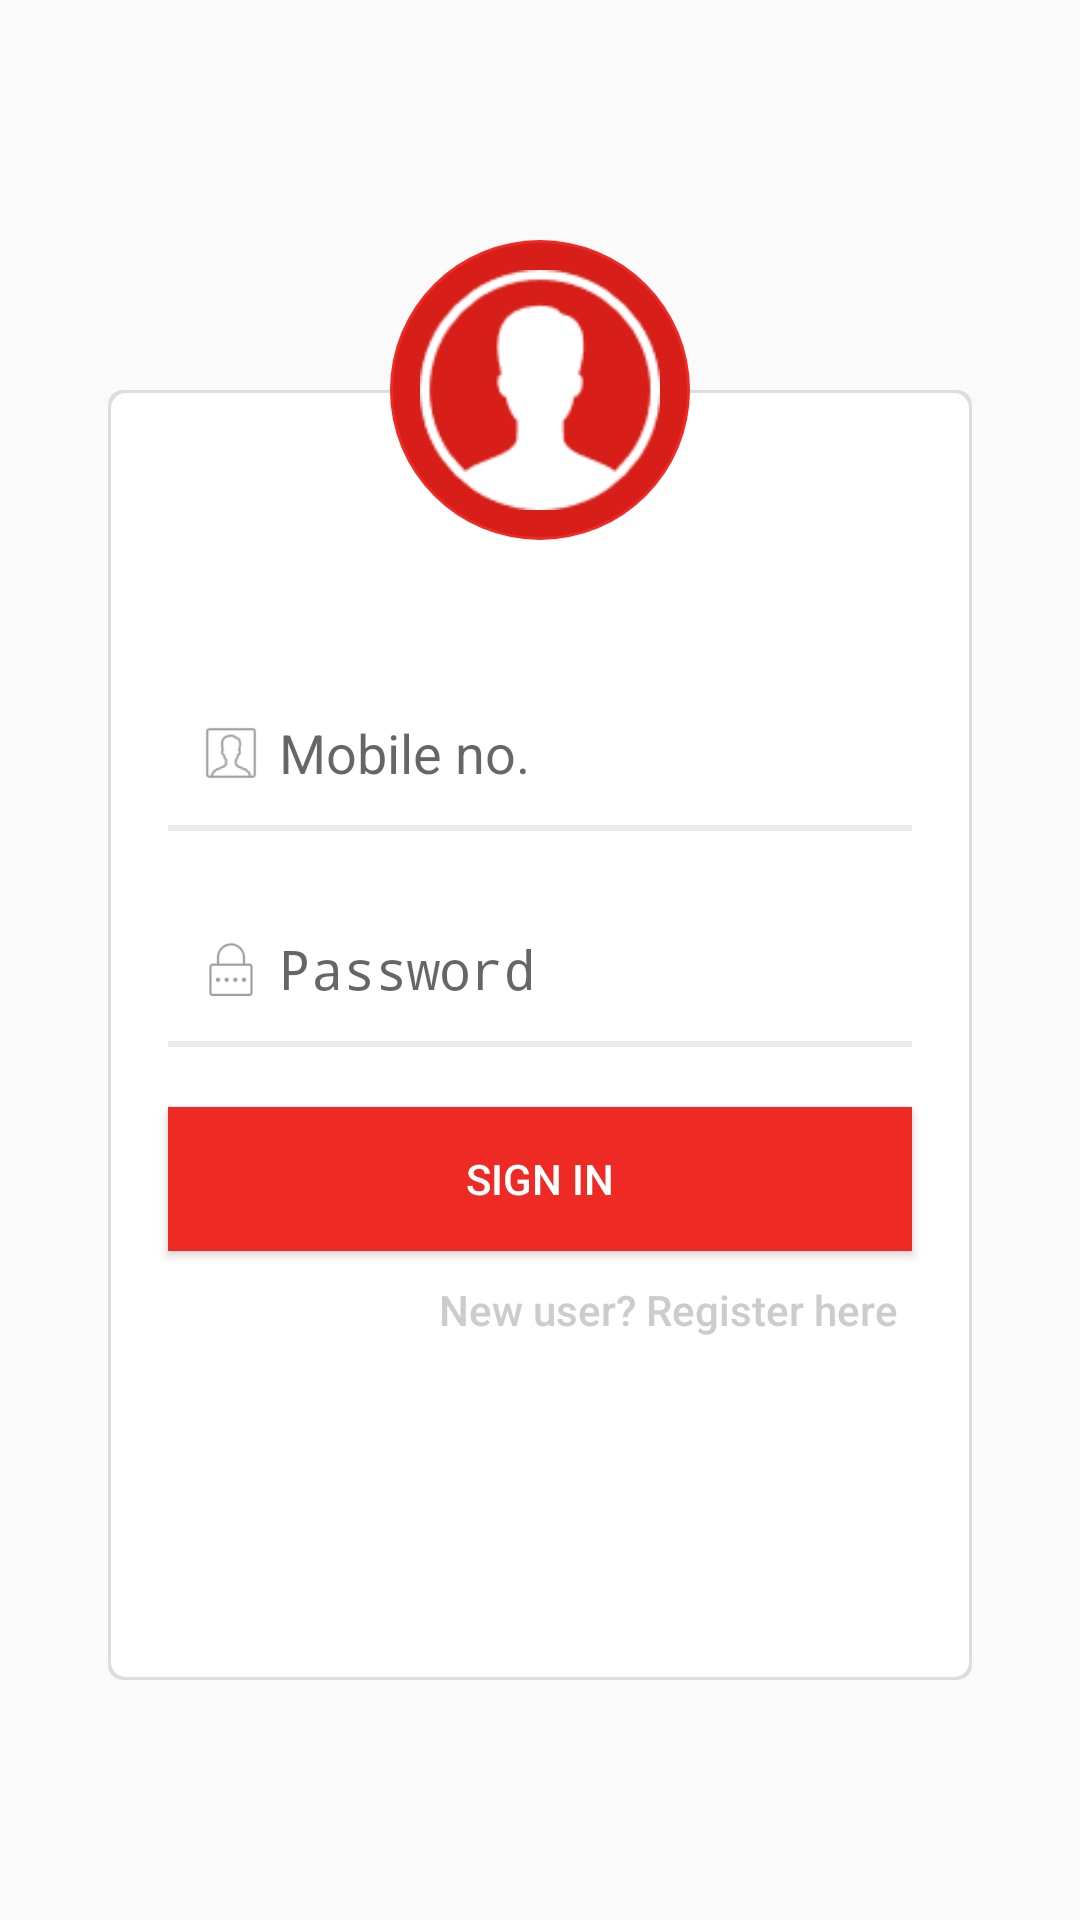

Where to tap for icons on this 1080x1920 app screen, as (x=x, y=y):
user: (x=540, y=390)
